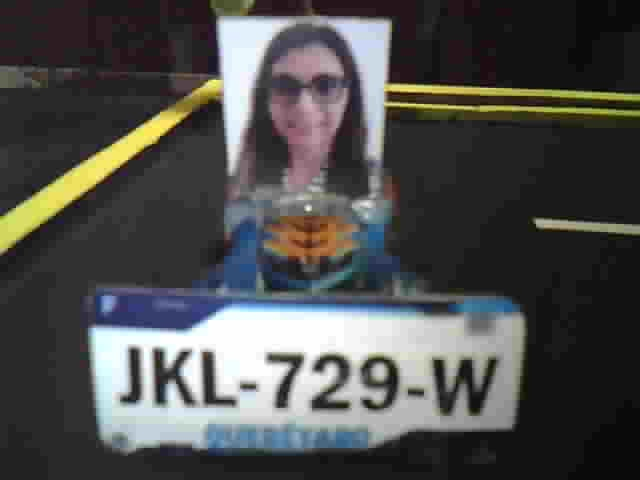PLACA: (80, 280, 529, 468)
ROSTRO: (227, 17, 381, 217)
